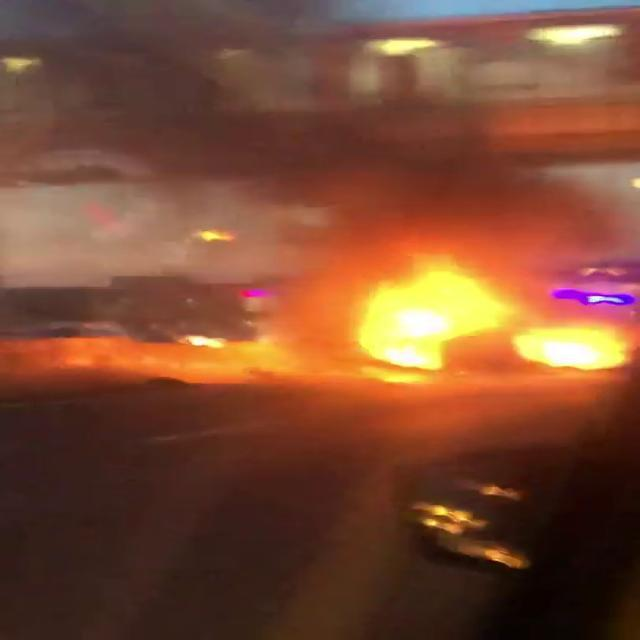Fire: (331, 254, 637, 384)
Smoke: (0, 0, 639, 268)
